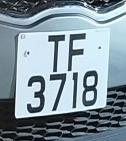1: (69, 70, 82, 111)
3: (22, 72, 48, 117)
7: (47, 72, 70, 113)
8: (82, 67, 100, 110)
F: (65, 31, 89, 72)
T: (42, 32, 70, 74)
